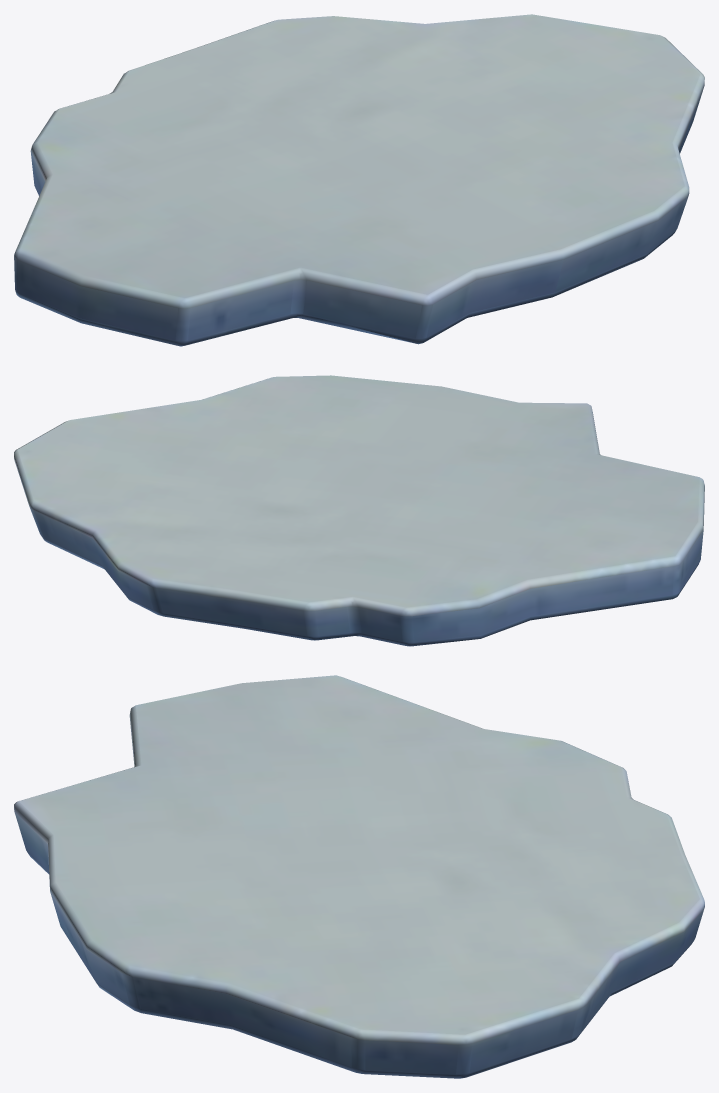
The picture shows the model from 3 angles, top to bottom: view 1: azimuth 30°, elevation 25°; view 2: azimuth 150°, elevation 25°; view 3: azimuth 270°, elevation 25°; orthographic projection. The views are drawn at different scales.
Visible parts, largest first — view 1: body0_model0_lod0_mesh0; view 2: body0_model0_lod0_mesh0; view 3: body0_model0_lod0_mesh0.
Part boxes in pixels (x1,y1,x2,y2): body0_model0_lod0_mesh0: (14,14,704,346); body0_model0_lod0_mesh0: (14,375,704,646); body0_model0_lod0_mesh0: (14,675,704,1078).
Size of the model in its own units: 268 by 20.95 by 216.
Materials: 1 (1 with a texture image).
